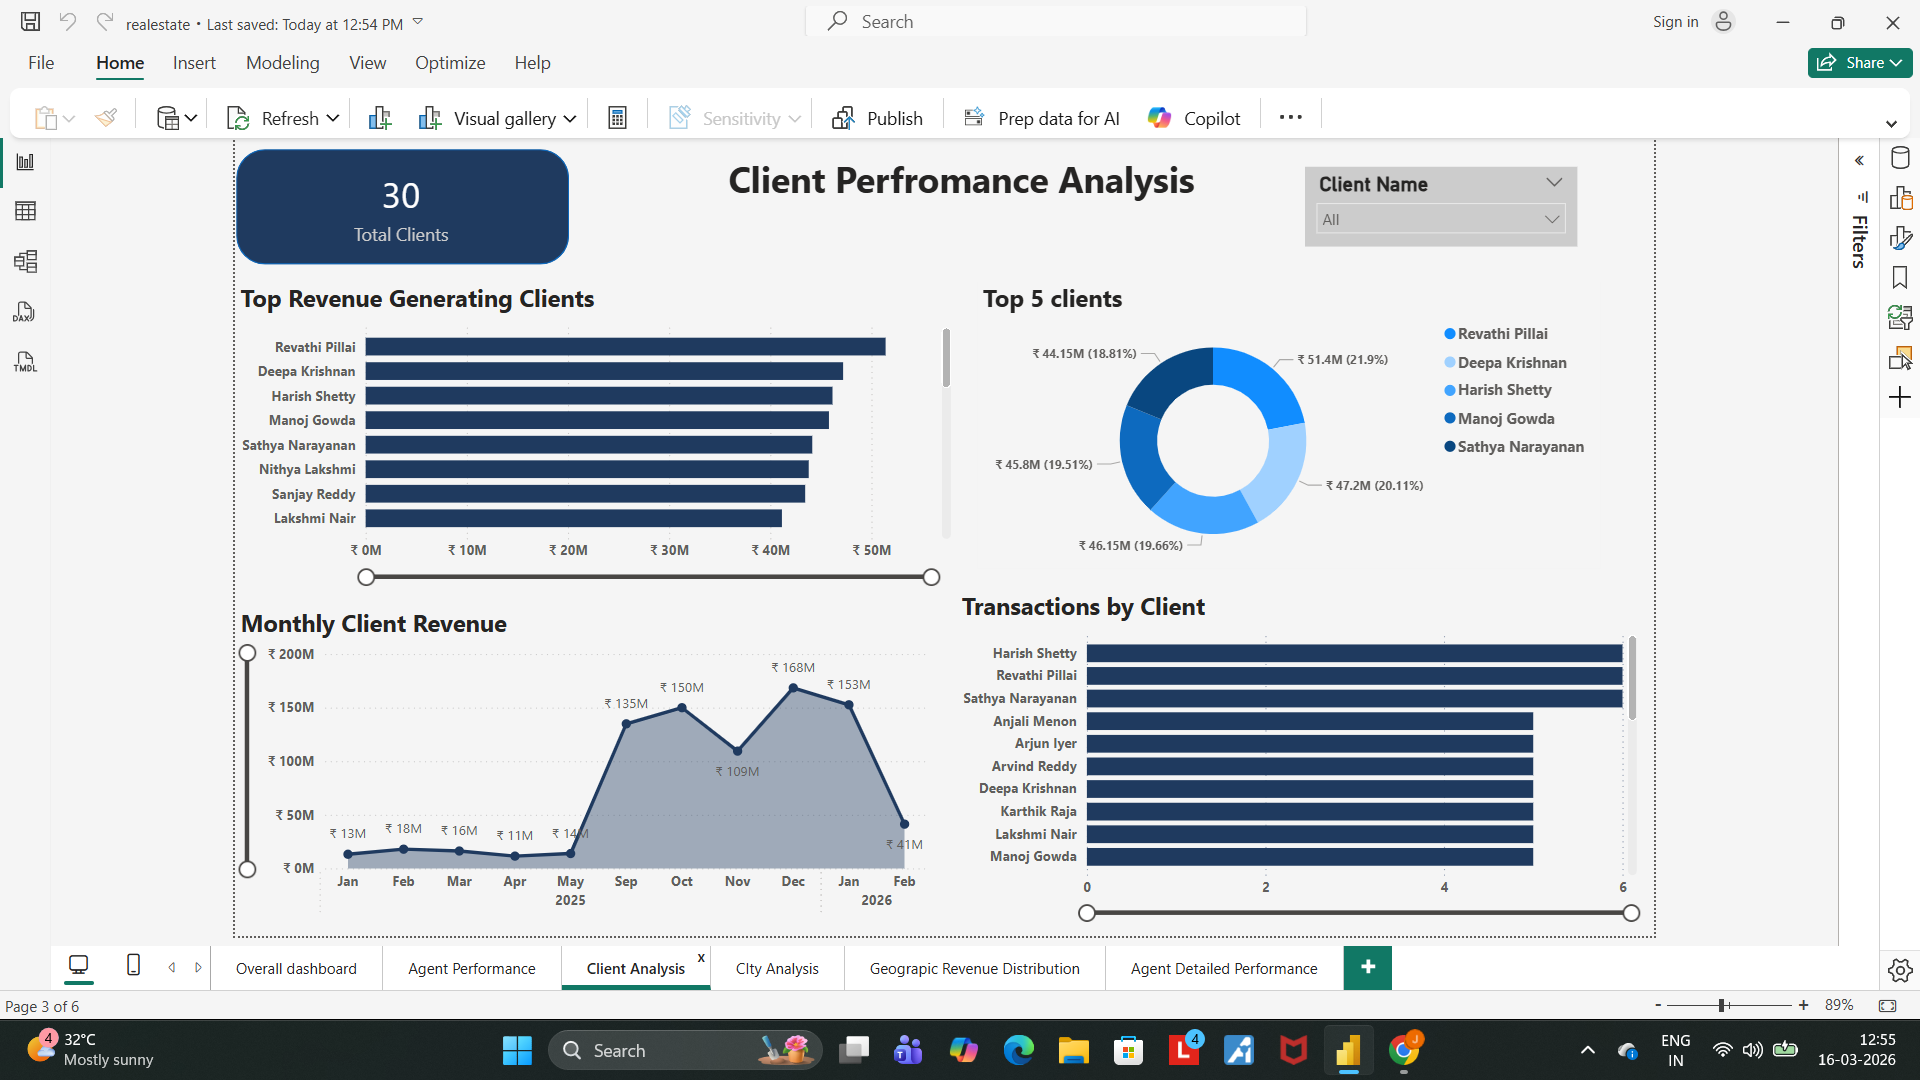

This screenshot's page, from the dashboard's own definition file:
{"tool":"powerbi","page":{"name":"Client Analysis","canvas":[1280,720],"ordinal":2},"visuals":[{"type":"barChart","title":"Top Revenue Generating Clients","fields":{"Category":["realestate clients.Client Name"],"Y":["measure.Total_Revenue"]},"box":[0,129.8,650.7,277],"z":0},{"type":"barChart","title":"Transactions by Client ","fields":{"Category":["realestate clients.Client Name"],"Y":["measure.Total_transactions"]},"box":[650.7,406.9,618.9,303],"z":1000},{"type":"lineChart","title":"Monthly Client Revenue ","fields":{"Category":["Calendar.Year","Calendar.Month Name"],"Y":["measure.Total_Revenue"]},"box":[0,422.7,629,287.1],"z":2000},{"type":"donutChart","title":"Top 5 clients","fields":{"Category":["realestate clients.Client Name"],"Y":["measure.Total_Revenue"]},"box":[669.4,129.8,561.2,258.3],"z":3000},{"type":"textbox","box":[360.7,10.1,588.6,63.5],"z":4000},{"type":"slicer","title":"CITY","fields":{"Values":["realestate clients.Client Name"]},"box":[965.2,26,245.3,72.1],"z":5000},{"type":"shape","box":[1.4,10.1,300.1,103.9],"z":6000},{"type":"card","fields":{"Values":["measure.Total_Clients"]},"box":[0,10.1,300.1,103.9],"z":7000}]}

Visuals, with their boxes on the page's 1280x720 design canvas (x1, y1, x2, y2). These are canvas units, not pixel positions in the 1920x1080 screenshot, which may show the page scaled, cropped or inside an application window:
"Top Revenue Generating Clients" barChart: {"x1": 0, "y1": 130, "x2": 651, "y2": 407}
"Transactions by Client " barChart: {"x1": 651, "y1": 407, "x2": 1270, "y2": 710}
"Monthly Client Revenue " lineChart: {"x1": 0, "y1": 423, "x2": 629, "y2": 710}
"Top 5 clients" donutChart: {"x1": 669, "y1": 130, "x2": 1231, "y2": 388}
textbox: {"x1": 361, "y1": 10, "x2": 949, "y2": 74}
"CITY" slicer: {"x1": 965, "y1": 26, "x2": 1210, "y2": 98}
shape: {"x1": 1, "y1": 10, "x2": 302, "y2": 114}
card - measure.Total_Clients: {"x1": 0, "y1": 10, "x2": 300, "y2": 114}
